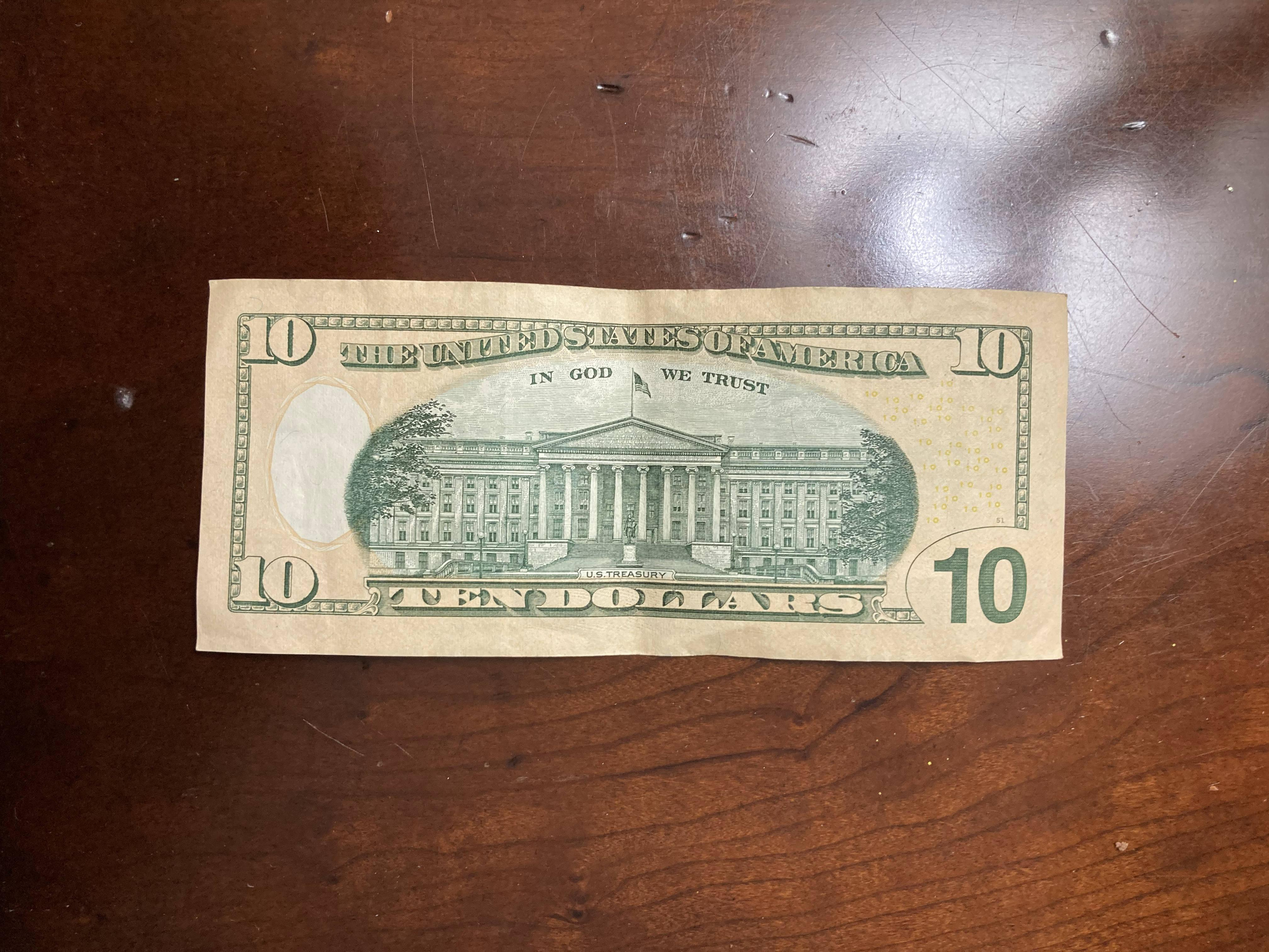ten-back: (197, 280, 1067, 662)
